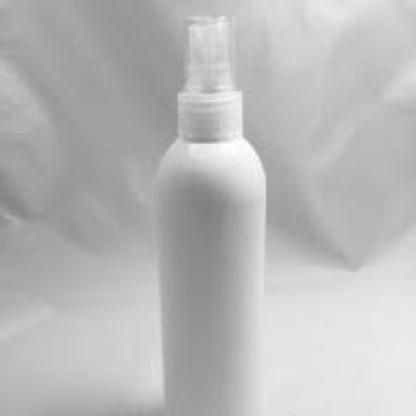trash: (158, 16, 265, 415)
